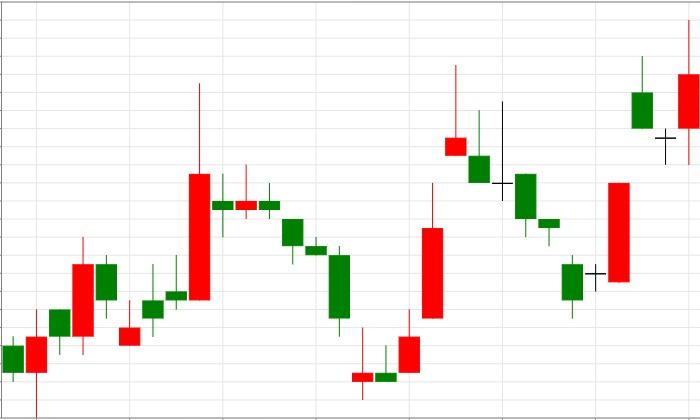shooting_star_fall: (351, 65, 468, 399)
